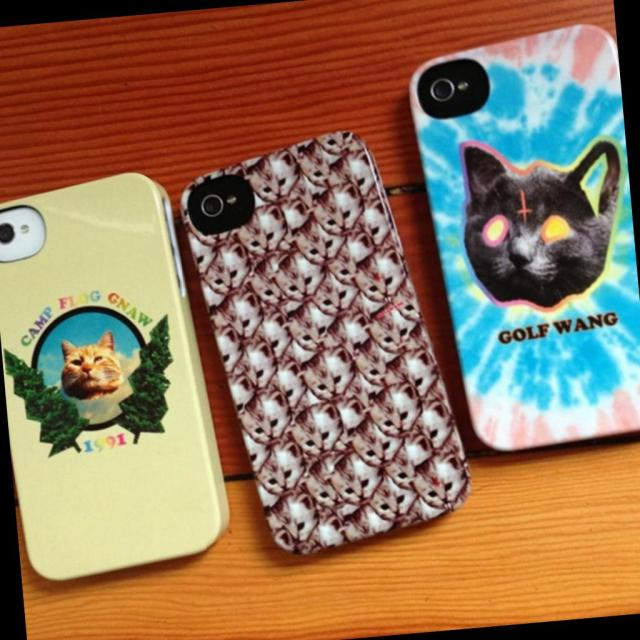handphone: (172, 141, 469, 545), (406, 34, 640, 444), (0, 171, 228, 574)
